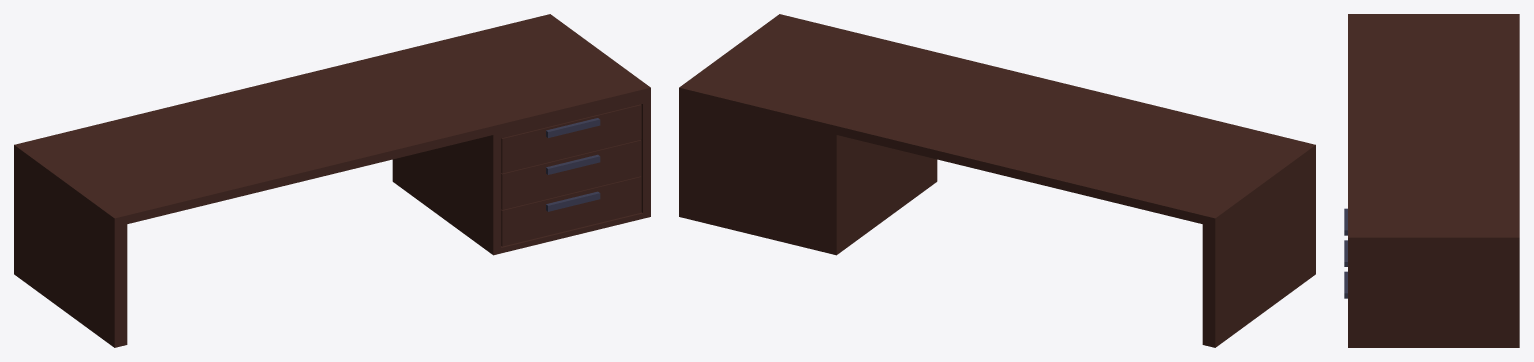
Rendered from escritrorio.glb.
3 views of the same model, side by side, from view 1: azimuth 30°, elevation 25°; view 2: azimuth 150°, elevation 25°; view 3: azimuth 270°, elevation 25° (orthographic). The views are drawn at different scales.
Parts seen in each view (by area): view 1: escritorio; view 2: escritorio; view 3: escritorio.
Part boxes in pixels (x1,y1,x2,y2): escritorio: [14, 14, 650, 347]; escritorio: [679, 14, 1315, 347]; escritorio: [1344, 14, 1519, 347].
Bounding box in the file's own units: 5.73 × 1.32 × 1.9.
1 material, 1 textured.
